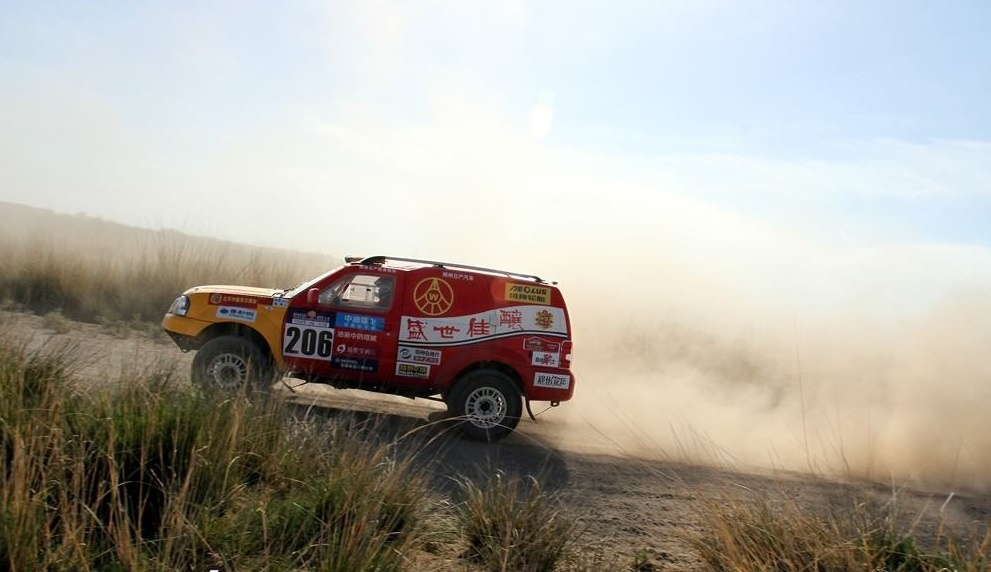racing car: (162, 238, 583, 448)
